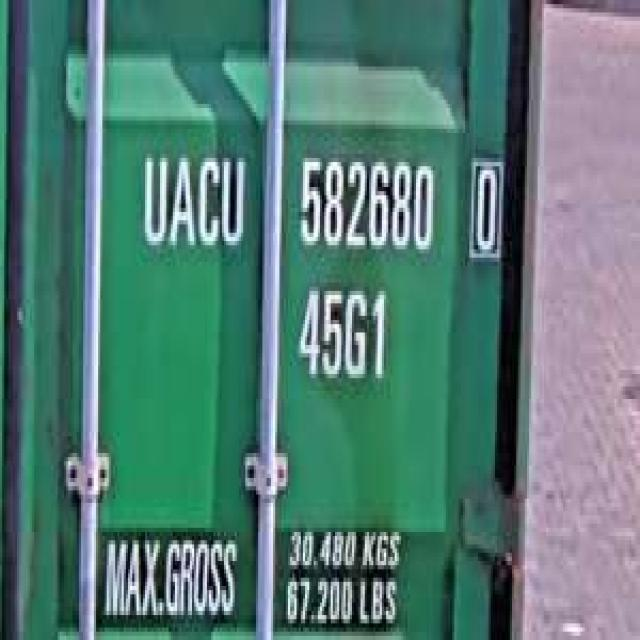dv: (465, 145, 504, 262)
owner: (136, 141, 250, 262)
serial: (294, 145, 438, 262)
size: (292, 274, 390, 391)
